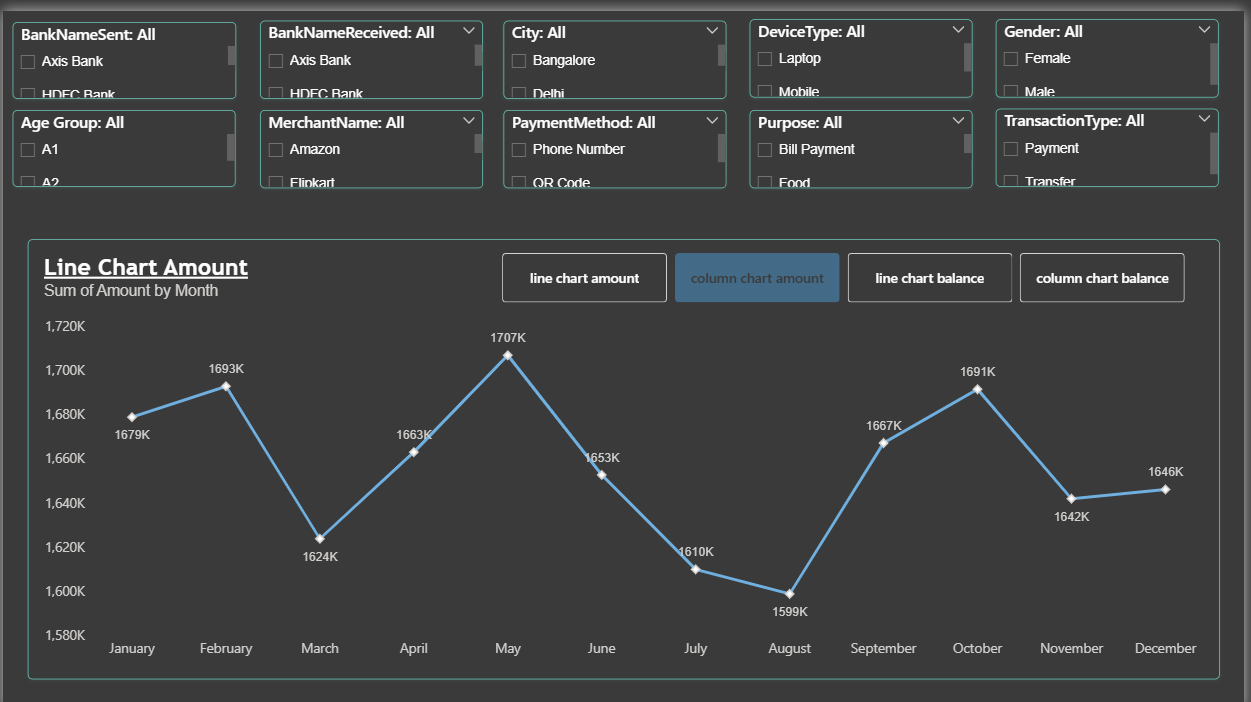

Layout of this report page (visuals, bound fields, positions):
{"tool":"powerbi","page":{"name":"Page 1","canvas":[1280,720],"ordinal":0},"visuals":[{"type":"slicer","fields":{"Values":["UPI Transaction Data.BankNameSent"]},"box":[10.3,11.5,230.5,79.1],"z":0},{"type":"slicer","fields":{"Values":["UPI Transaction Data.BankNameReceived"]},"box":[265.4,9.6,229.9,80.7],"z":1},{"type":"slicer","fields":{"Values":["UPI Transaction Data.City"]},"box":[515.8,9.6,229.9,80.7],"z":2},{"type":"slicer","fields":{"Values":["UPI Transaction Data.DeviceType"]},"box":[770.3,8.2,229.9,80.7],"z":3},{"type":"slicer","fields":{"Values":["UPI Transaction Data.Gender"]},"box":[1023.4,8.2,229.9,80.7],"z":4},{"type":"slicer","fields":{"Values":["UPI Transaction Data.Age Group"]},"box":[9.6,102.6,229.9,79.4],"z":5},{"type":"slicer","fields":{"Values":["UPI Transaction Data.MerchantName"]},"box":[265.4,102.6,229.9,80.7],"z":6},{"type":"slicer","fields":{"Values":["UPI Transaction Data.PaymentMethod"]},"box":[515.8,102.6,229.9,80.7],"z":7},{"type":"slicer","fields":{"Values":["UPI Transaction Data.Purpose"]},"box":[770.3,102.6,229.9,80.7],"z":8},{"type":"slicer","fields":{"Values":["UPI Transaction Data.TransactionType"]},"box":[1023.4,101.2,229.9,80.7],"z":9},{"type":"lineChart","title":"Line Chart Amount","fields":{"Category":["UPI Transaction Data.TransactionDate.Variation.Date Hierarchy.Month"],"Y":["Sum(UPI Transaction Data.Amount)"]},"box":[25.3,234.9,1229.1,453.6],"z":11},{"type":"bookmarkNavigator","box":[515.3,250.1,705.7,51.6],"z":14}]}

Visuals, with their boxes in screenshot pixels (x1, y1, x2, y2), scaled from the page's 1280x720 canvas onto the 1251x702 screenshot:
slicer - UPI Transaction Data.BankNameSent: Rect(10, 11, 235, 88)
slicer - UPI Transaction Data.BankNameReceived: Rect(259, 9, 484, 88)
slicer - UPI Transaction Data.City: Rect(504, 9, 729, 88)
slicer - UPI Transaction Data.DeviceType: Rect(753, 8, 978, 87)
slicer - UPI Transaction Data.Gender: Rect(1000, 8, 1225, 87)
slicer - UPI Transaction Data.Age Group: Rect(9, 100, 234, 177)
slicer - UPI Transaction Data.MerchantName: Rect(259, 100, 484, 179)
slicer - UPI Transaction Data.PaymentMethod: Rect(504, 100, 729, 179)
slicer - UPI Transaction Data.Purpose: Rect(753, 100, 978, 179)
slicer - UPI Transaction Data.TransactionType: Rect(1000, 99, 1225, 177)
"Line Chart Amount" lineChart: Rect(25, 229, 1226, 671)
bookmarkNavigator: Rect(504, 244, 1193, 294)
